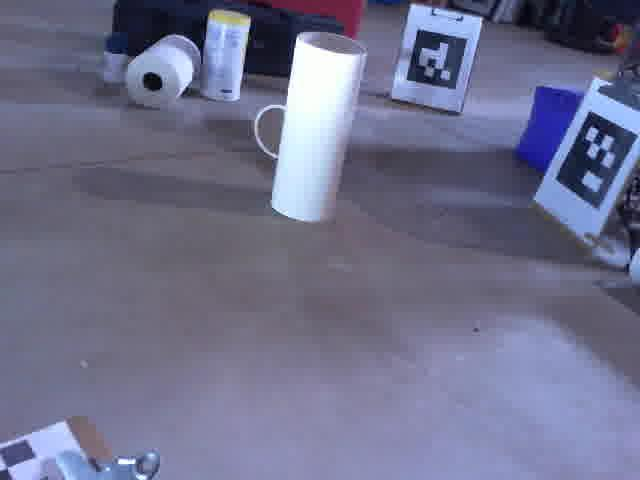coral: (267, 28, 369, 225), (254, 88, 293, 161)
